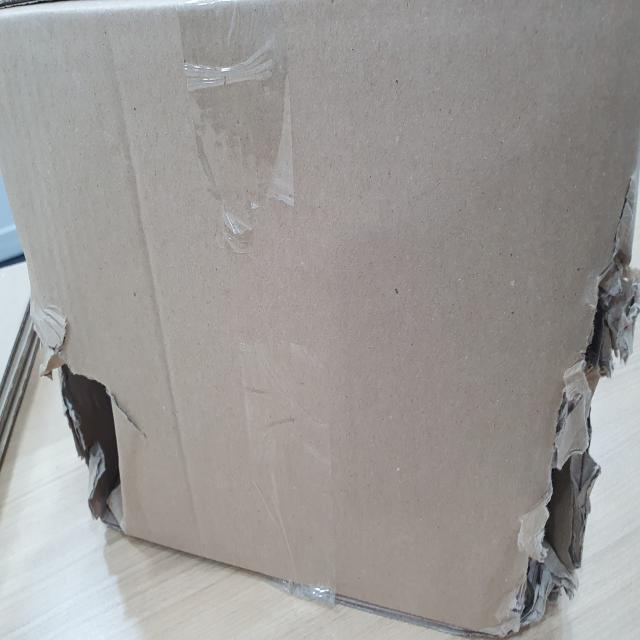hole: (53, 350, 151, 540), (508, 435, 598, 632), (574, 225, 634, 371)
